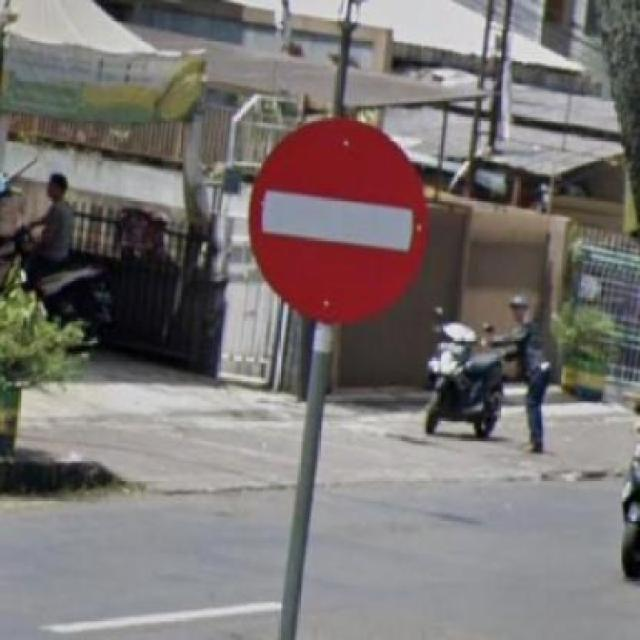no entry: (242, 103, 437, 328)
